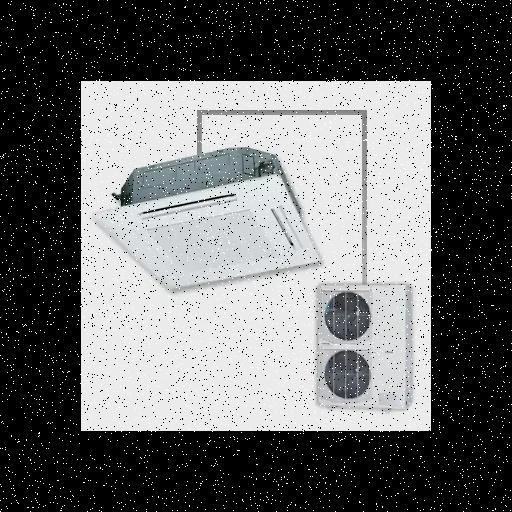4-way-ac: (91, 170, 321, 294)
